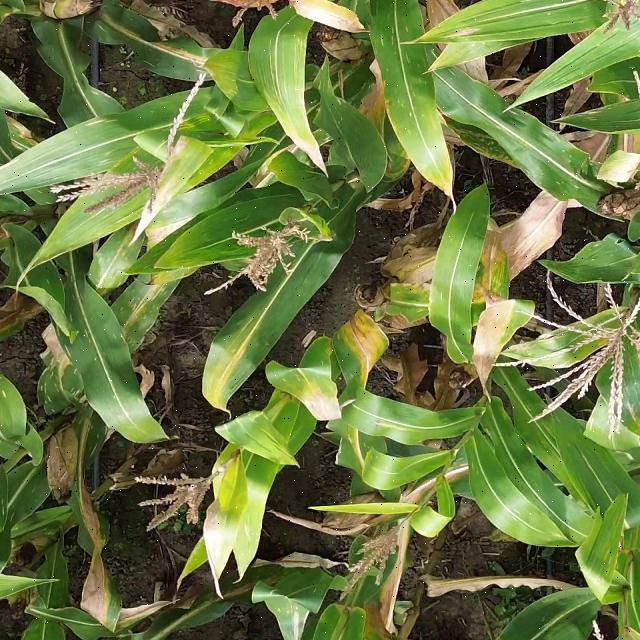gray-leaf-spot: (374, 23, 436, 118), (59, 288, 107, 362), (113, 282, 165, 344), (78, 113, 132, 167), (38, 360, 88, 410), (276, 358, 337, 397), (87, 249, 134, 292), (210, 61, 256, 98), (5, 486, 46, 524), (272, 598, 308, 637), (570, 106, 629, 126)
northern-leaf-blight: (95, 8, 207, 66), (344, 328, 389, 403), (210, 572, 285, 603), (404, 465, 474, 497)
southern-leaf-blight: (457, 126, 541, 158)
